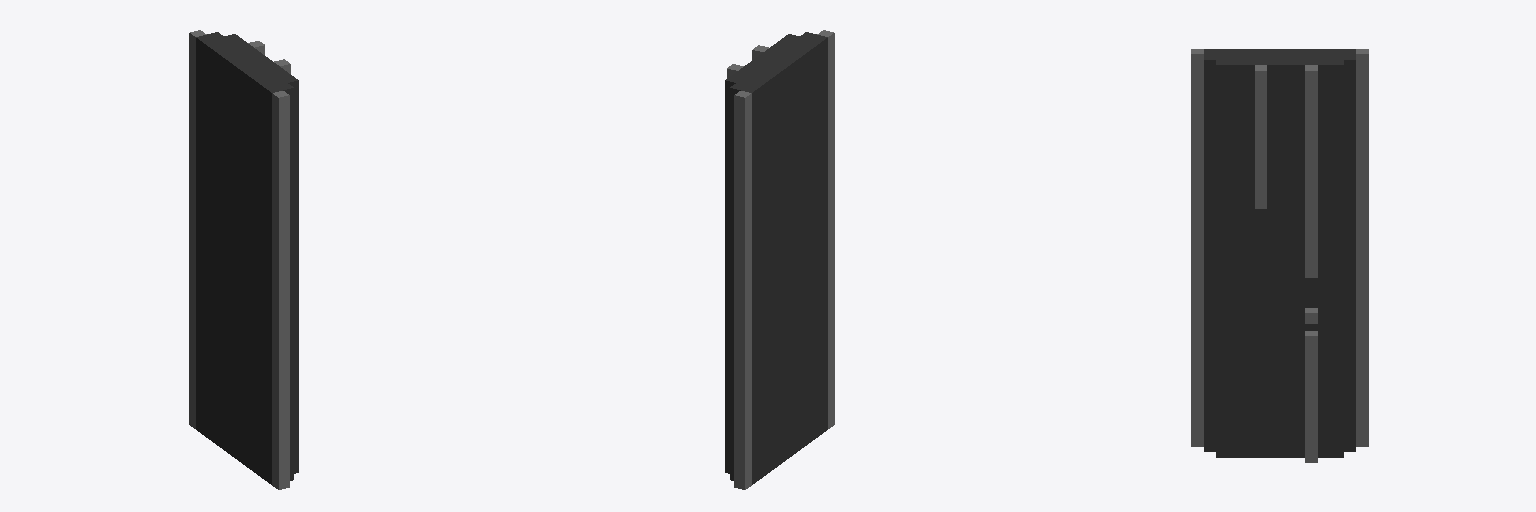
The picture shows the model from 3 angles: view 1: azimuth 30°, elevation 25°; view 2: azimuth 150°, elevation 25°; view 3: azimuth 270°, elevation 25°; orthographic projection.
Visible parts, largest first — view 1: object 1; view 2: object 1; view 3: object 1.
Part boxes in pixels (left/top/right/bottom): object 1: left=189, top=30, right=298, bottom=489; object 1: left=725, top=30, right=834, bottom=489; object 1: left=1191, top=49, right=1368, bottom=462.
Bounding box in the file's own units: 0.4 × 3.4 × 1.4.
1 materials, 1 textured.